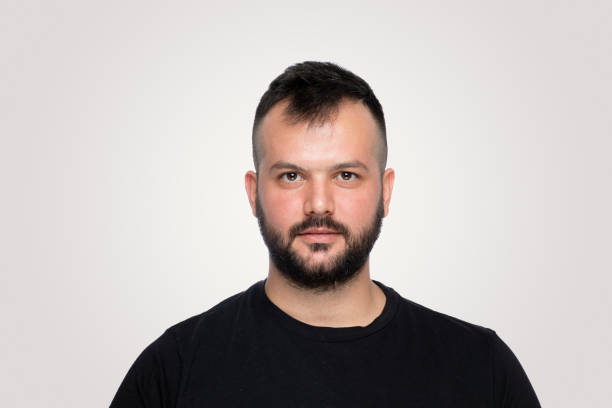face: (262, 123, 379, 291)
